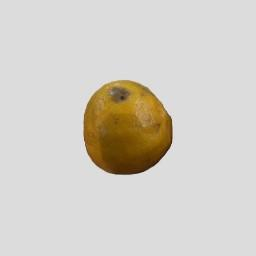Unripe: (82, 80, 173, 176)
